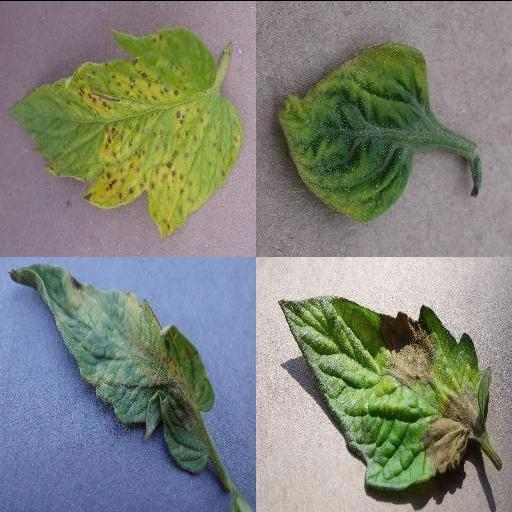Late Blight: (276, 294, 490, 488)
Leaf Mold: (7, 262, 215, 472)
Septoria: (11, 24, 243, 236)
Yellow Leaf Curl Virus: (278, 45, 430, 223)
